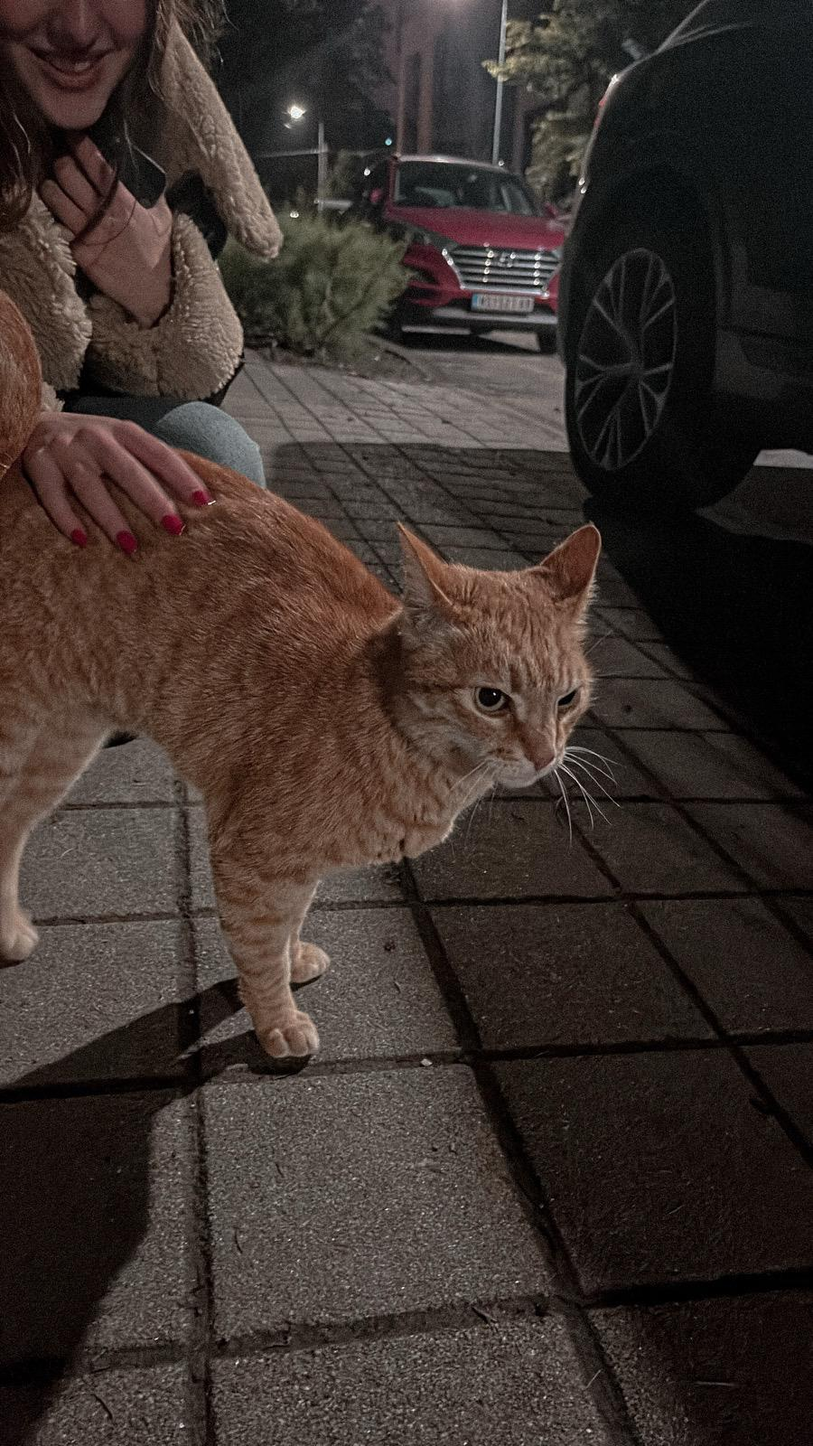macka: (0, 444, 607, 1059)
